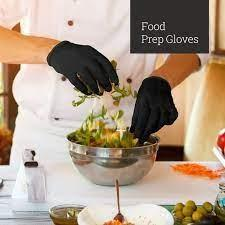apron: (45, 36, 119, 96), (128, 74, 176, 144)
